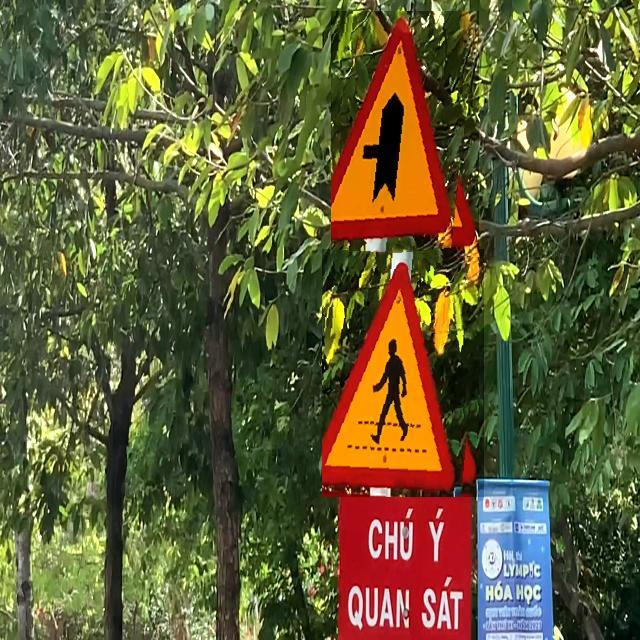W-207c: (331, 11, 479, 262)
W-224: (322, 249, 484, 497)
